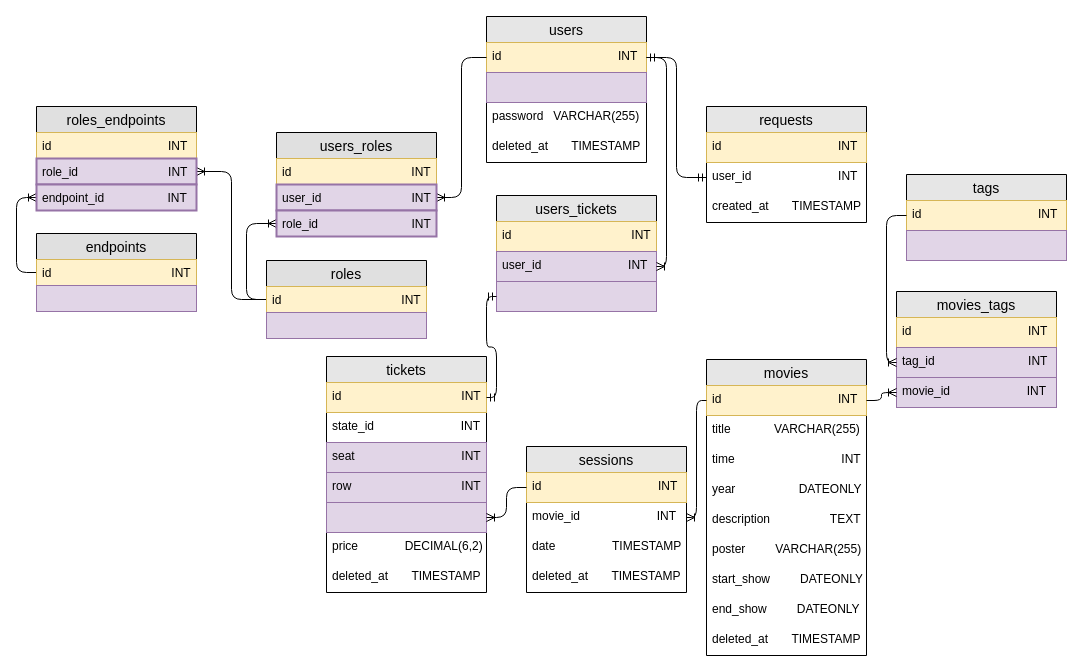
Image size: 1083x672. Some labels were removed from this diagram. The centre of each missing label's shape, as x and y in pixels:
"login VARCHAR(255)" belongs at pixel 566 87.
"name VARCHAR(15)" belongs at pixel 986 245.
"name VARCHAR(25)" belongs at pixel 346 325.
"session_id INT" belongs at pixel 406 517.
"ticket_id INT" belongs at pixel 576 296.
"url VARCHAR(2048)" belongs at pixel 116 298.
